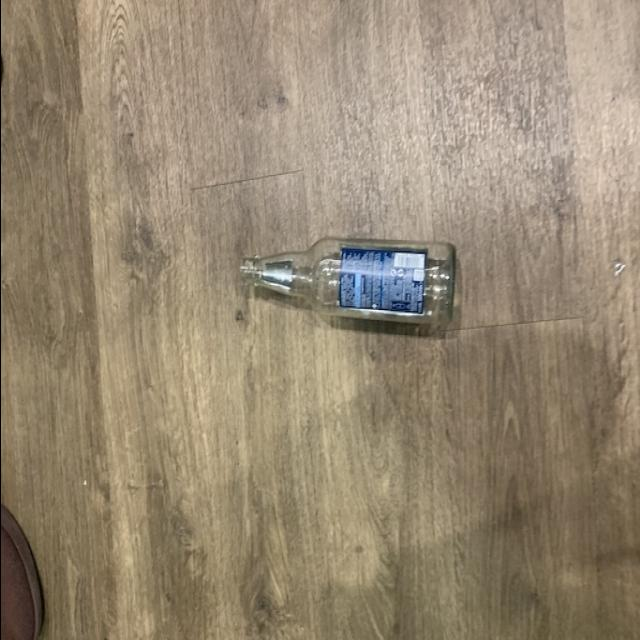Glass Bottle: (238, 230, 458, 329)
